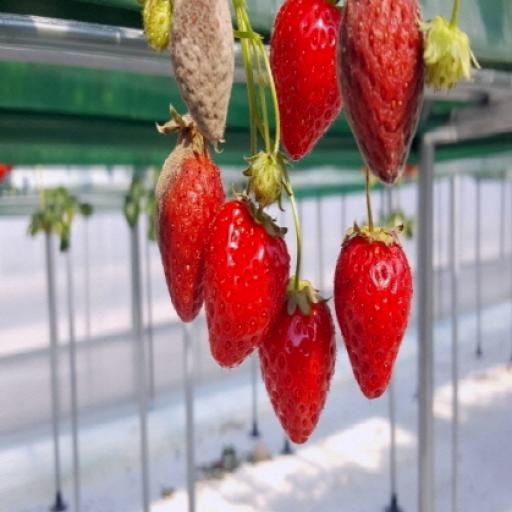Gray Mold: (169, 0, 236, 154), (154, 103, 209, 260)
